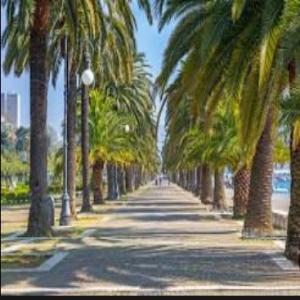palm tree: (150, 0, 300, 265), (0, 0, 152, 236)
